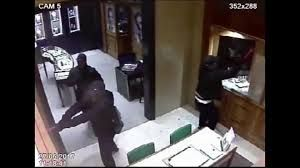gun: (224, 49, 244, 84), (47, 113, 71, 137)
